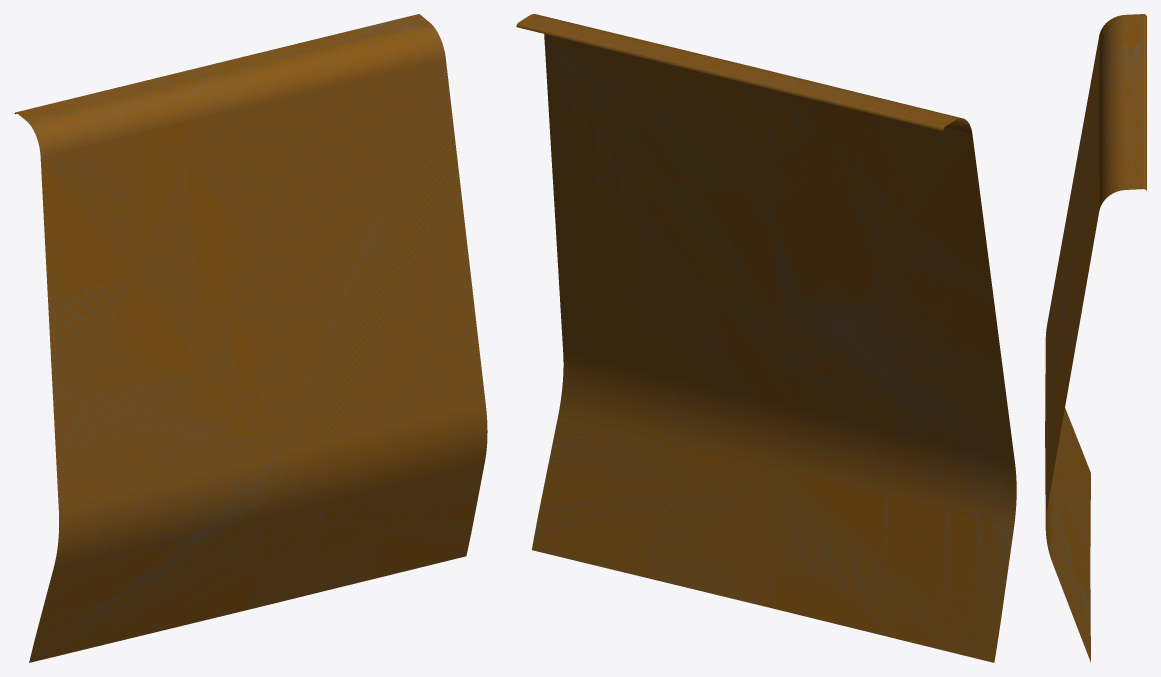
Rendered from original-38.obj.
The picture shows the model from 3 angles, left to right: view 1: azimuth 30°, elevation 25°; view 2: azimuth 150°, elevation 25°; view 3: azimuth 270°, elevation 25°; orthographic projection. The views are drawn at different scales.
Visible parts, largest first — view 1: Group23/mesh103/mesh103-geometry#mesh103-geometry; view 2: Group23/mesh103/mesh103-geometry#mesh103-geometry; view 3: Group23/mesh103/mesh103-geometry#mesh103-geometry.
Part boxes in pixels (x1,y1,x2,y2): Group23/mesh103/mesh103-geometry#mesh103-geometry: (14,14,487,662); Group23/mesh103/mesh103-geometry#mesh103-geometry: (516,14,1016,662); Group23/mesh103/mesh103-geometry#mesh103-geometry: (1045,14,1146,662).
Size of the model in its own units: 0.7023 by 0.8049 by 0.1593.
